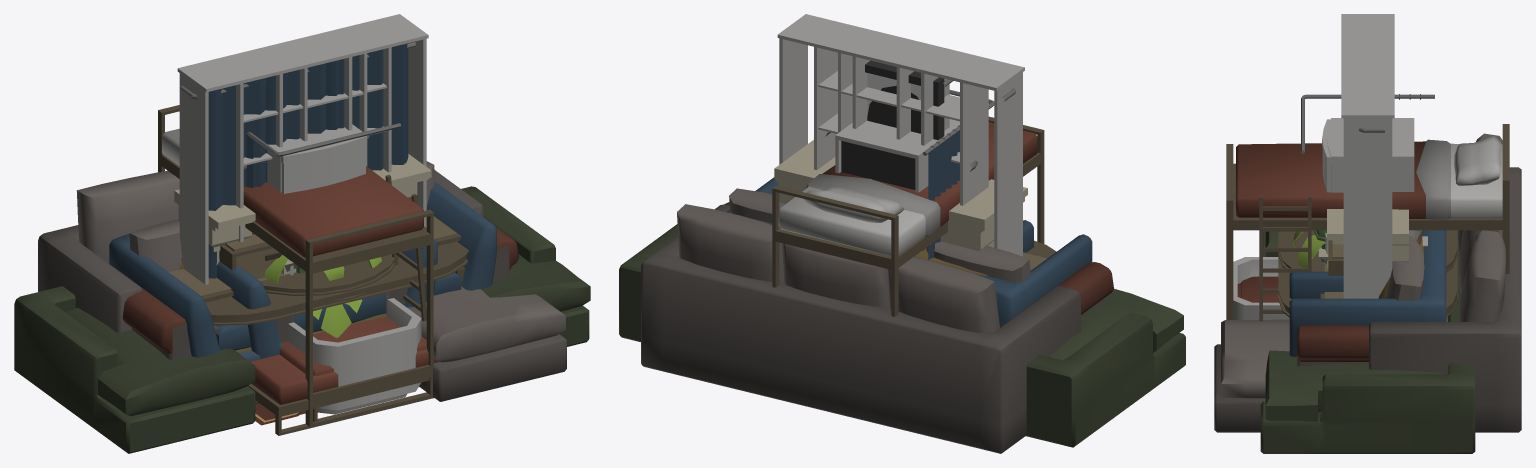
The model's file is furniture.glb.
The picture shows the model from 3 angles, left to right: view 1: azimuth 30°, elevation 25°; view 2: azimuth 150°, elevation 25°; view 3: azimuth 270°, elevation 25°; orthographic projection. The views are drawn at different scales.
Parts seen in each view (by area): view 1: Couch_Large3, Couch_L, Bed_Bunk, Shelf_Large, Curtains_Double, Couch_Medium1, Bathroom_Bathtub, Bookshelf, Table_RoundLarge, Kitchen_Fridge, Bed_King, Couch_Small1 (+12 smaller); view 2: Couch_L, Couch_Large3, Bed_Bunk, Shelf_Large, Bookshelf, Kitchen_Fridge, Fireplace, Couch_Medium1, Couch_Large2, Shelf_2, Bathroom_Shower1, Bathroom_Mirror1 (+2 smaller); view 3: Couch_L, Bed_Bunk, Couch_Large3, Shelf_Large, Couch_Medium1, Bookshelf, Kitchen_Fridge, Couch_Large1, Couch_Large2, Bathroom_Bathtub, Fireplace, Couch_Small1 (+5 smaller).
Part boxes in pixels (x1,y1,x2,y2): Couch_Large3: (14, 186, 590, 453); Couch_L: (38, 170, 566, 401); Bed_Bunk: (158, 105, 433, 427); Shelf_Large: (177, 14, 428, 284); Curtains_Double: (180, 42, 415, 278); Couch_Medium1: (109, 182, 496, 361); Bathroom_Bathtub: (288, 298, 421, 414); Bookshelf: (213, 23, 393, 242); Table_RoundLarge: (206, 242, 468, 325); Kitchen_Fridge: (267, 124, 366, 275); Bed_King: (248, 349, 439, 435); Couch_Small1: (216, 239, 437, 359); Couch_L: (641, 204, 1080, 453); Couch_Large3: (619, 202, 1185, 447); Bed_Bunk: (772, 116, 1044, 316); Shelf_Large: (777, 14, 1024, 256); Bookshelf: (812, 22, 989, 205); Kitchen_Fridge: (835, 119, 959, 192); Fireplace: (774, 140, 1027, 250); Couch_Medium1: (726, 177, 1092, 327); Couch_Large2: (729, 188, 1105, 316); Shelf_2: (852, 56, 949, 145); Bathroom_Shower1: (923, 90, 994, 259); Bathroom_Mirror1: (865, 60, 944, 140); Couch_L: (1214, 133, 1521, 432); Bed_Bunk: (1226, 124, 1509, 321); Couch_Large3: (1260, 231, 1475, 453); Shelf_Large: (1341, 14, 1394, 298); Couch_Medium1: (1289, 230, 1446, 356); Bookshelf: (1341, 30, 1394, 99); Kitchen_Fridge: (1322, 118, 1414, 266); Couch_Large1: (1297, 230, 1422, 361); Couch_Large2: (1297, 230, 1424, 366); Bathroom_Bathtub: (1233, 257, 1447, 319); Fireplace: (1327, 209, 1408, 262); Couch_Small1: (1289, 271, 1343, 298).
Bounding box in the file's own units: 3.54 × 2.22 × 2.16.
